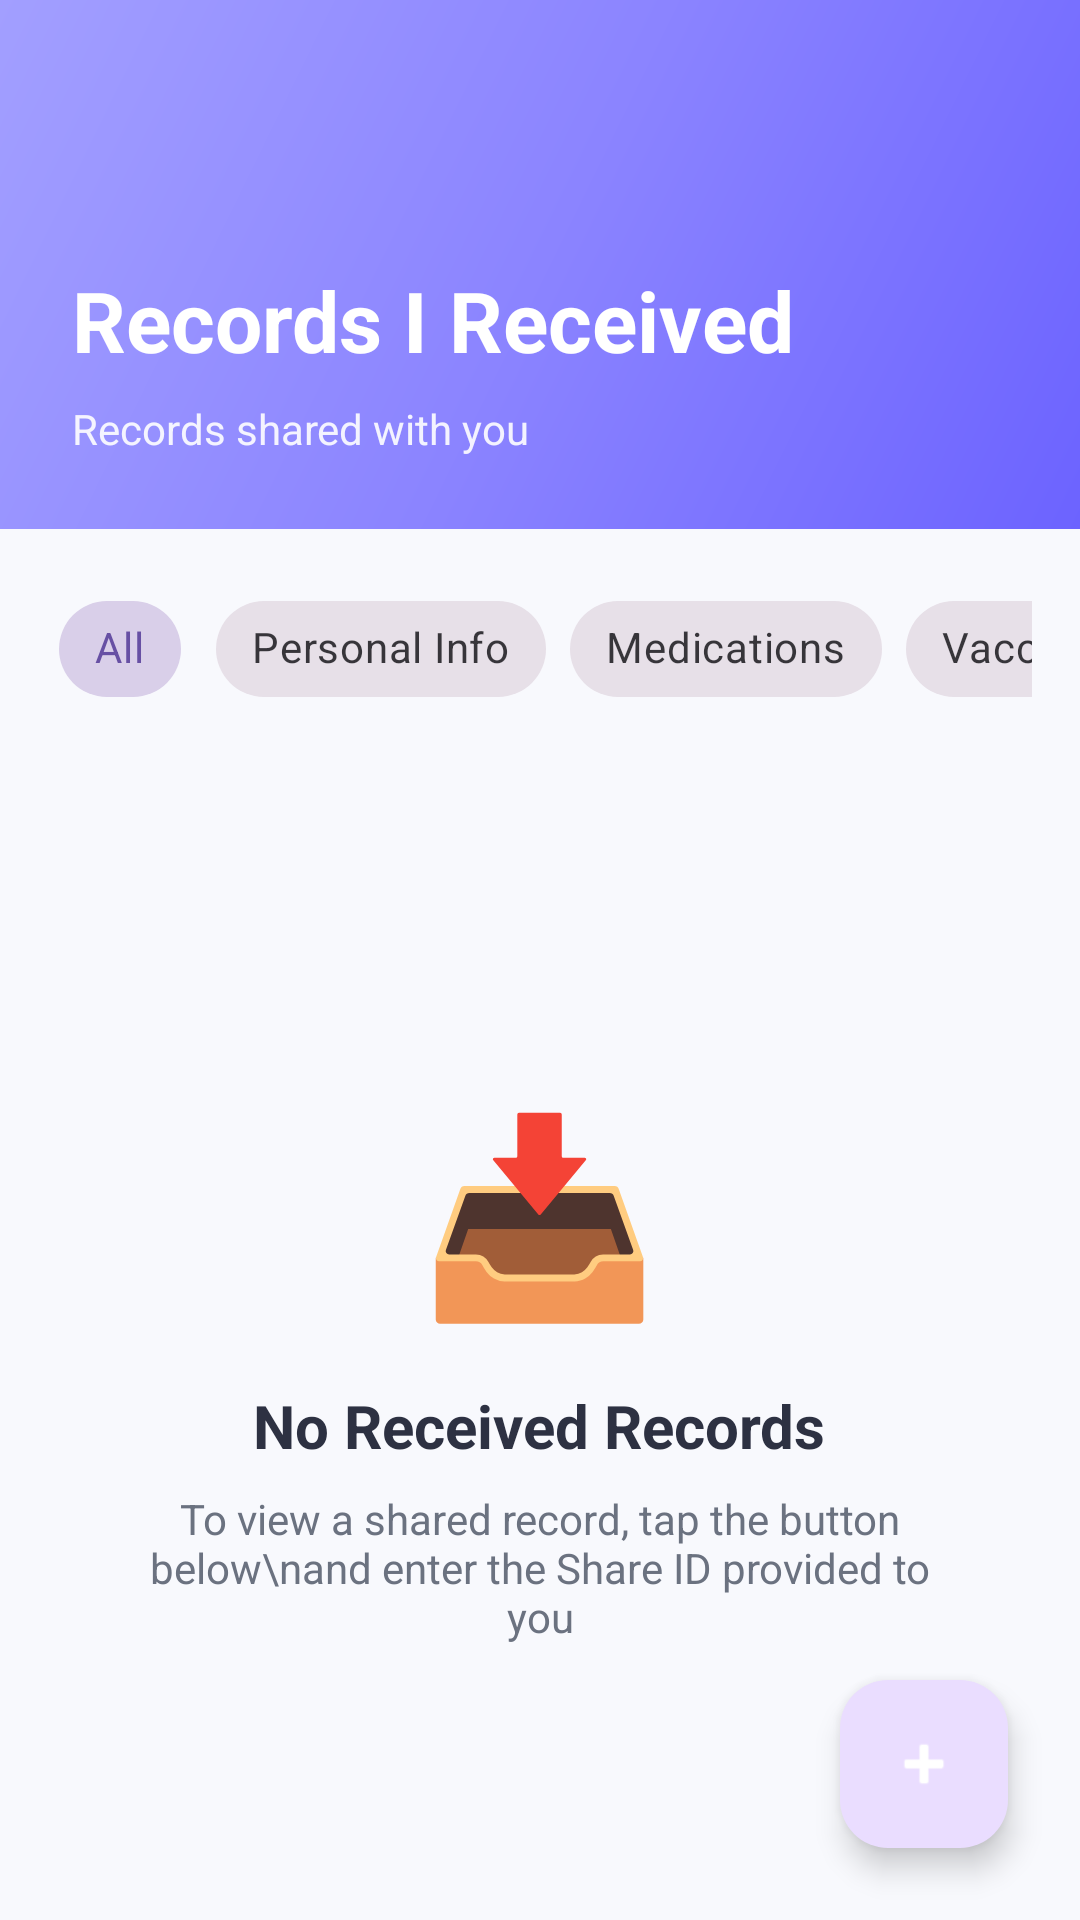

Named icons in this screenshot (1080px x 1920px) and their centers, [x,y]:
Import Share: [924,1764]
